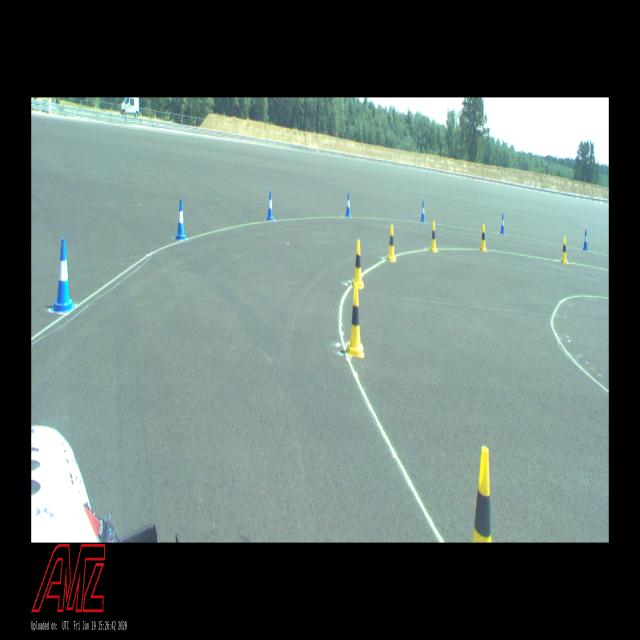blue_cone: (51, 238, 75, 313), (175, 199, 187, 241), (266, 190, 274, 220), (344, 192, 350, 218), (582, 230, 589, 250), (500, 213, 505, 234), (420, 202, 425, 222)
yellow_cone: (464, 449, 501, 542), (346, 286, 365, 358), (352, 240, 364, 287), (387, 225, 397, 261), (429, 221, 438, 252), (479, 224, 488, 252), (560, 236, 568, 264)
